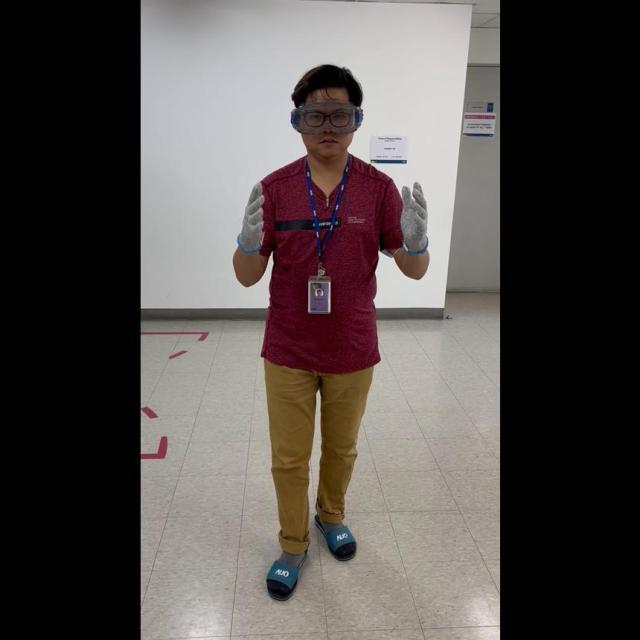gloved_hand: (234, 179, 268, 255), (394, 176, 427, 254)
